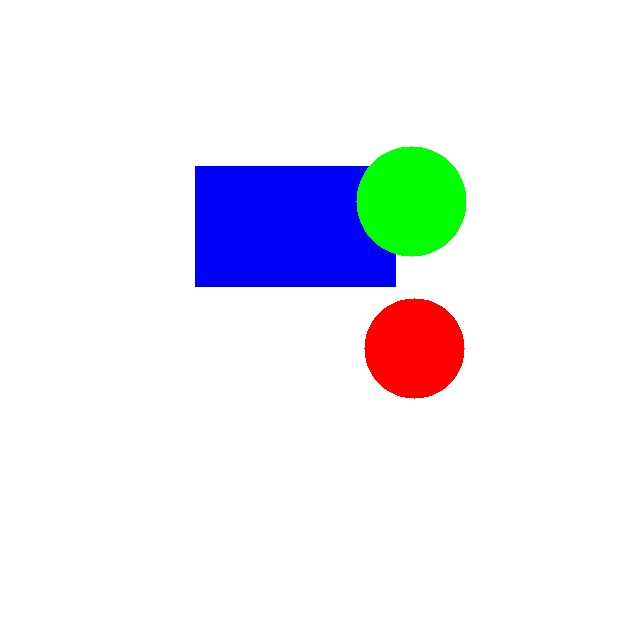cartao: (195, 166, 395, 286)
rosca_externa: (356, 146, 466, 256)
rosca_interna: (364, 298, 464, 398)
